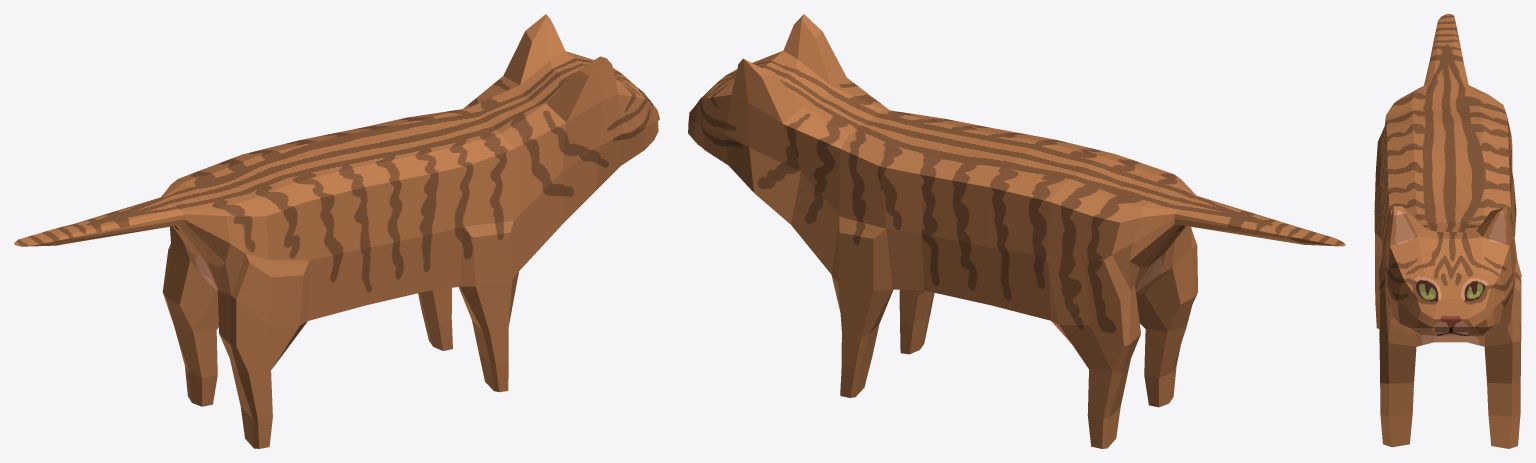
The model's file is cat.fbx.
3 renders of one model, left to right at view 1: azimuth 30°, elevation 25°; view 2: azimuth 150°, elevation 25°; view 3: azimuth 270°, elevation 25°, orthographic. The views are drawn at different scales.
Visible parts, largest first — view 1: Cube.001; view 2: Cube.001; view 3: Cube.001.
Boxes of the visible parts, x1=… form: Cube.001: x1=14, y1=14, x2=659, y2=448; Cube.001: x1=688, y1=14, x2=1345, y2=448; Cube.001: x1=1374, y1=14, x2=1521, y2=448.
Bounding box in the file's own units: 496 × 229 × 105.
